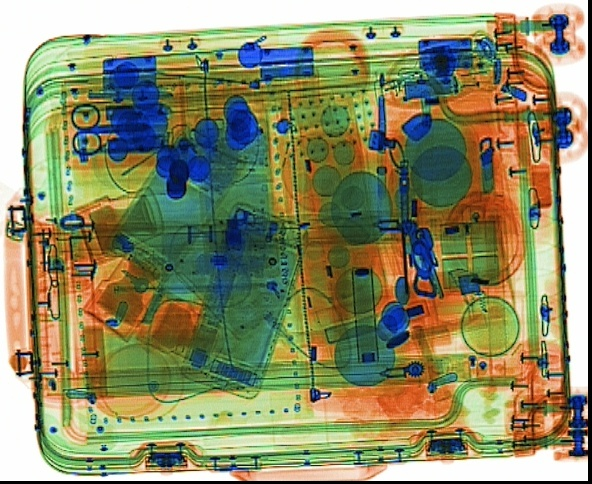scissors: (69, 101, 154, 158)
